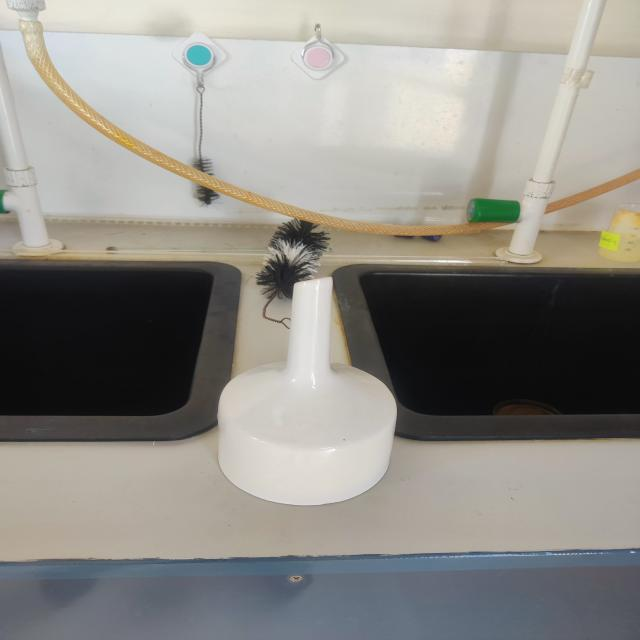Buchner_Funnel: (190, 243, 430, 527)
